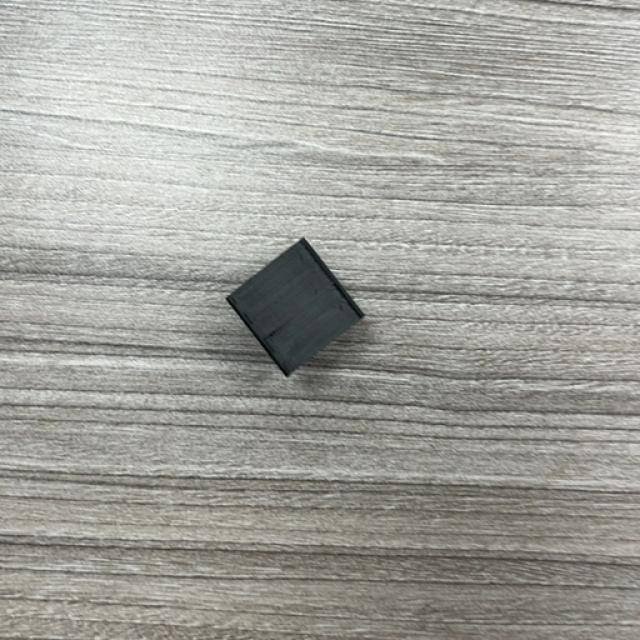Negro: (226, 239, 365, 378)
